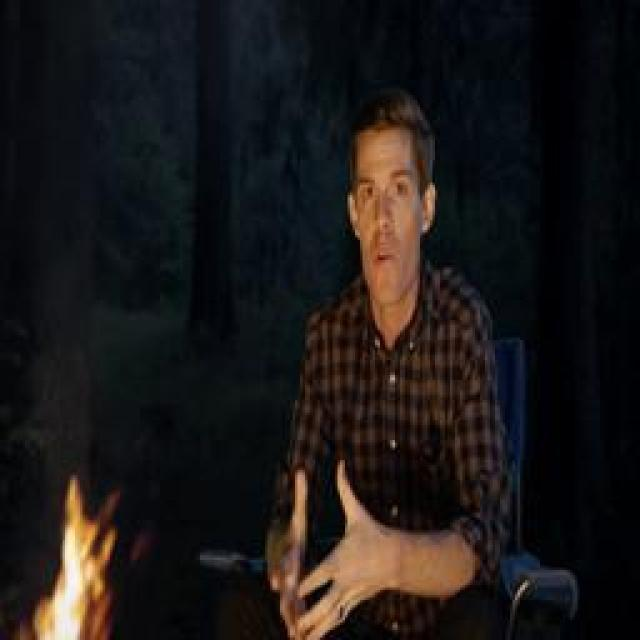Fire: (30, 480, 118, 640)
